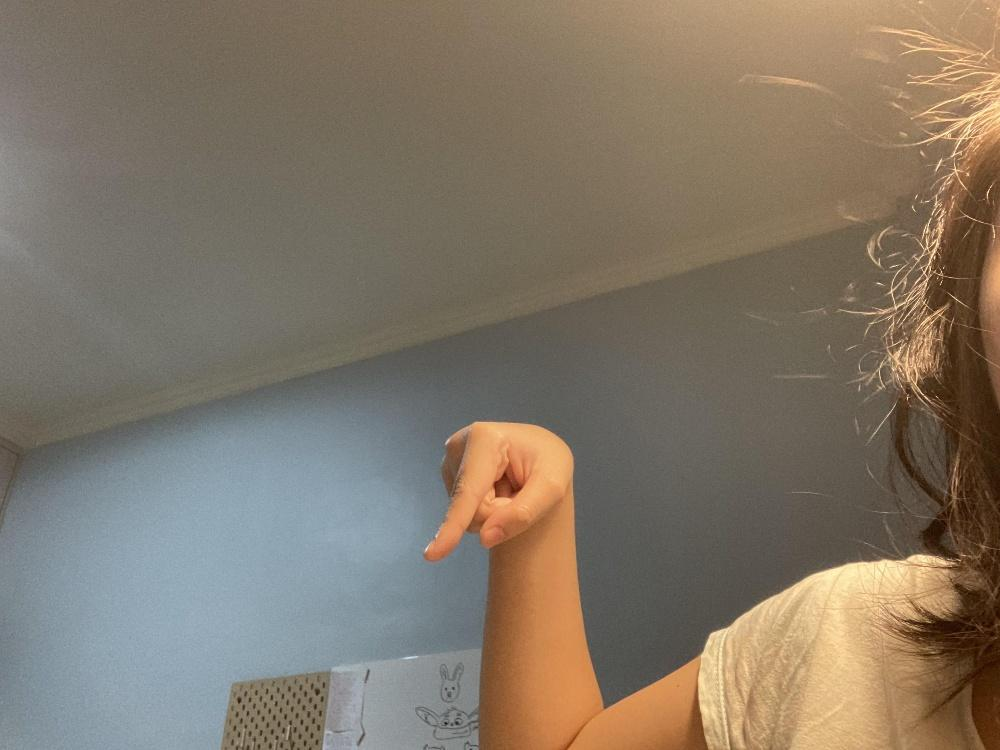z: (422, 420, 572, 562)
